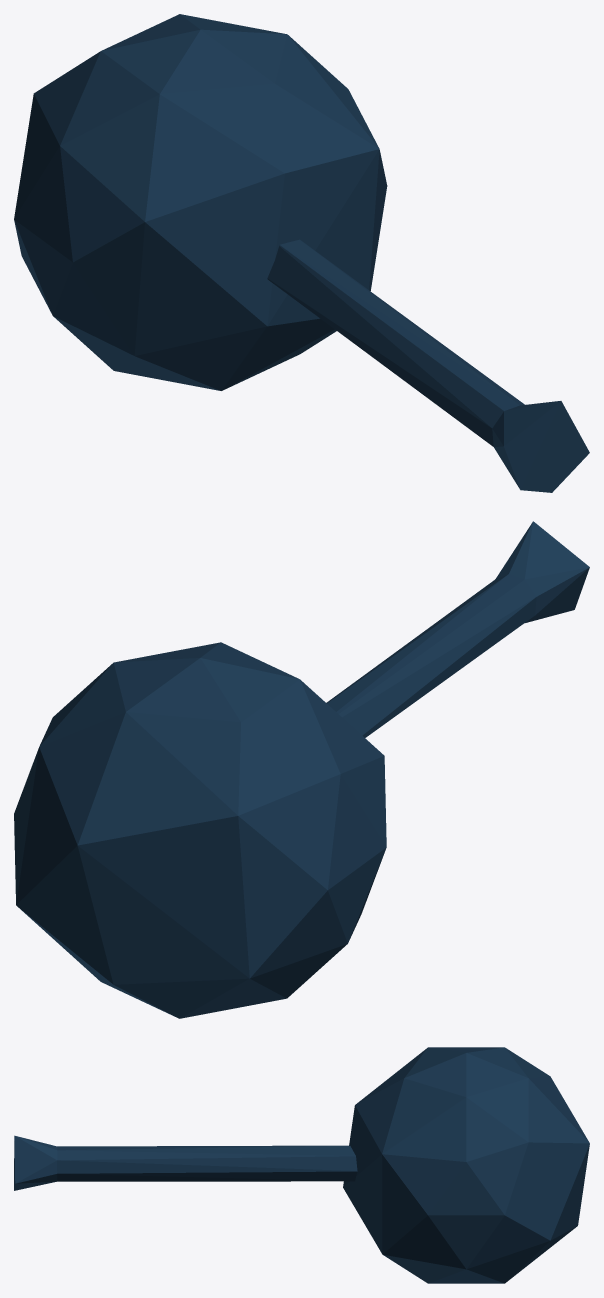
File: turret0.obj
The picture shows the model from 3 angles, top to bottom: view 1: azimuth 30°, elevation 25°; view 2: azimuth 150°, elevation 25°; view 3: azimuth 270°, elevation 25°; orthographic projection. The views are drawn at different scales.
Visible parts, largest first — view 1: Tank_Turret_0; view 2: Tank_Turret_0; view 3: Tank_Turret_0.
Boxes of the visible parts, bbox=[...] form: Tank_Turret_0: bbox=[14, 14, 589, 492]; Tank_Turret_0: bbox=[14, 521, 589, 1018]; Tank_Turret_0: bbox=[14, 1047, 589, 1283].
Bounding box in the file's own units: 1.28 × 1.35 × 3.13.
1 material, 1 textured.
